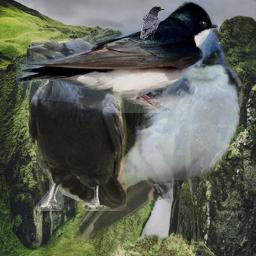Crow: (26, 38, 127, 211), (139, 6, 165, 43)
Swallow: (67, 22, 245, 243), (16, 1, 218, 113)
